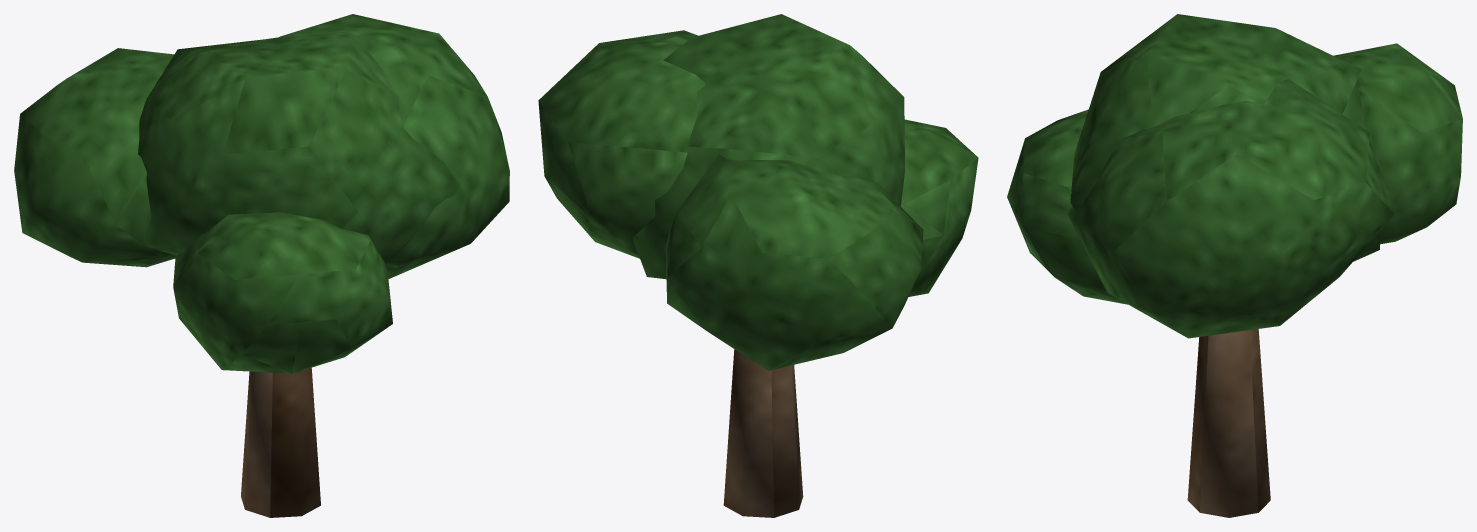
File: ambient_tree_9.glb
3 views of the same model, side by side, from view 1: azimuth 30°, elevation 25°; view 2: azimuth 150°, elevation 25°; view 3: azimuth 270°, elevation 25° (orthographic).
Visible parts, largest first — view 1: ambient_tree_9; view 2: ambient_tree_9; view 3: ambient_tree_9.
Part boxes in pixels (x1=…): ambient_tree_9: x1=14, y1=14, x2=509, y2=517; ambient_tree_9: x1=538, y1=14, x2=978, y2=517; ambient_tree_9: x1=1007, y1=14, x2=1462, y2=517.
Bounding box in the file's own units: 4.05 × 4.35 × 3.94.
2 materials, 2 textured.
